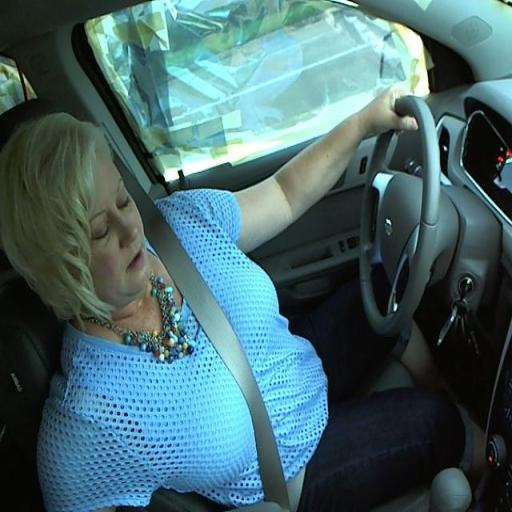turning: (4, 104, 466, 458)
